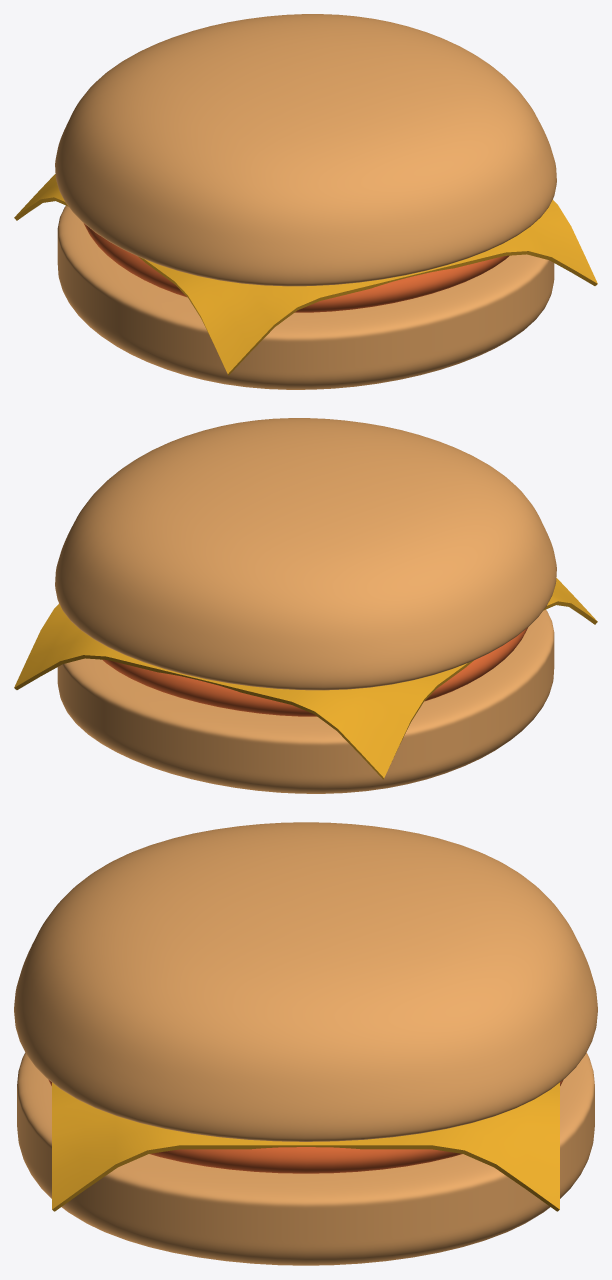
File: hamburger.glb
3 renders of one model, top to bottom at view 1: azimuth 30°, elevation 25°; view 2: azimuth 150°, elevation 25°; view 3: azimuth 270°, elevation 25°, orthographic. The views are drawn at different scales.
Visible parts, largest first — view 1: topBun, bunBottom, cheese, meat; view 2: topBun, bunBottom, cheese, meat; view 3: topBun, bunBottom, cheese, meat.
Boxes of the visible parts, left/top/right/bottom form: topBun: left=55, top=14, right=556, bottom=286; bunBottom: left=57, top=205, right=554, bottom=389; cheese: left=14, top=174, right=597, bottom=375; meat: left=83, top=223, right=509, bottom=312; topBun: left=55, top=418, right=556, bottom=690; bunBottom: left=57, top=609, right=554, bottom=793; cheese: left=14, top=578, right=597, bottom=779; meat: left=102, top=627, right=528, bottom=716; topBun: left=14, top=822, right=597, bottom=1141; bunBottom: left=17, top=1052, right=594, bottom=1265; cheese: left=52, top=1082, right=559, bottom=1211; meat: left=48, top=1079, right=563, bottom=1173.
Size of the model in its own units: 9.12 by 4.98 by 9.12.
